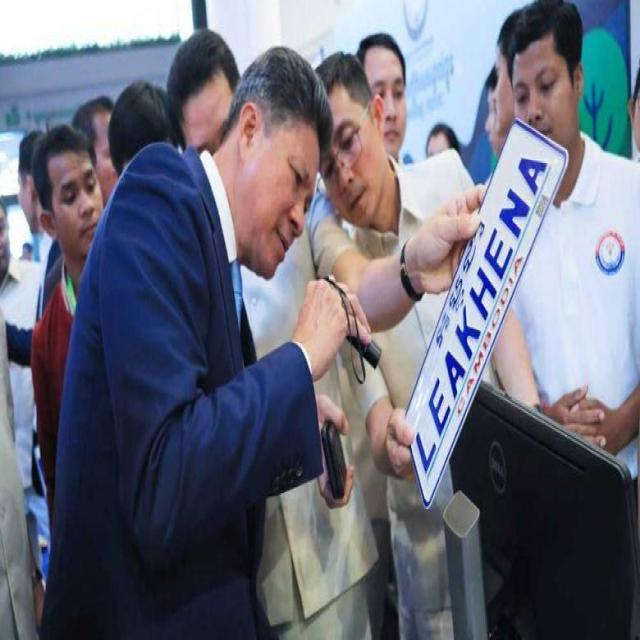Cambodia: (423, 221, 486, 349)
